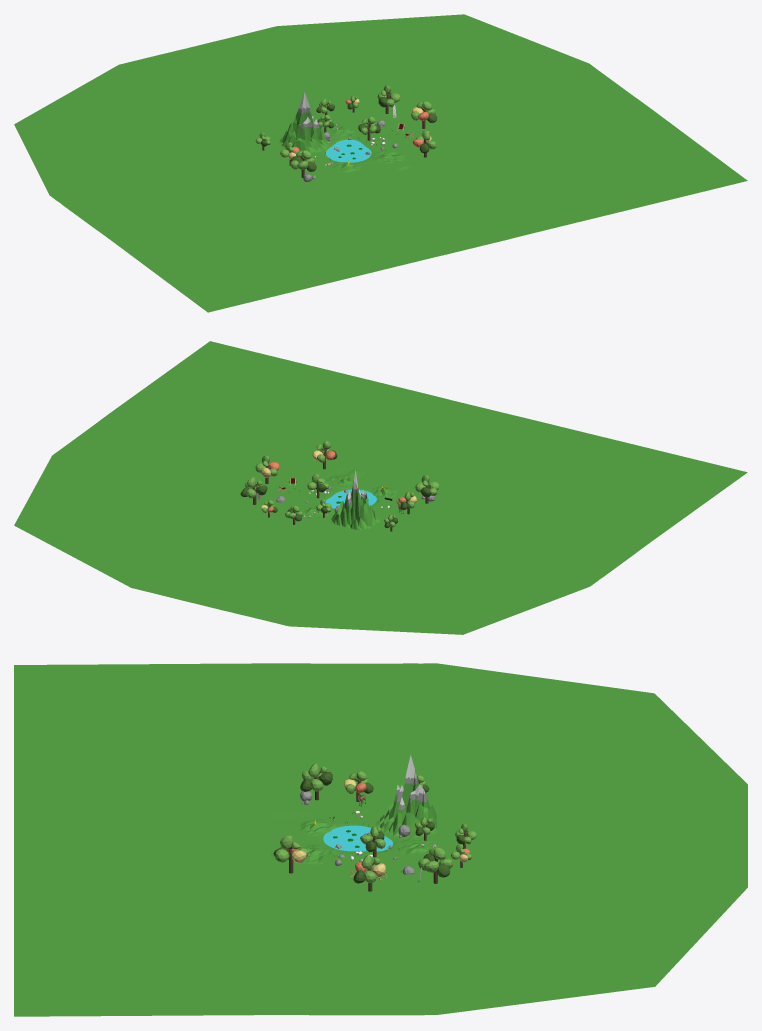
Rendered from nature-scene.glb.
3 renders of one model, top to bottom at view 1: azimuth 30°, elevation 25°; view 2: azimuth 150°, elevation 25°; view 3: azimuth 270°, elevation 25°, orthographic. The views are drawn at different scales.
Visible parts, largest first — view 1: Ground, Lac; view 2: Ground; view 3: Ground, Tree.003 (×2), Tree.006 (×2), Lac.
Boxes of the visible parts, x1,y1,x2,y2 form: Ground: (14, 14, 747, 312); Lac: (326, 139, 371, 162); Ground: (14, 341, 747, 634); Ground: (14, 663, 747, 1016); Tree.003 (×2): (300, 763, 452, 883); Tree.006 (×2): (273, 835, 385, 891); Lac: (323, 825, 392, 851).
Size of the model in its own units: 347 by 33.86 by 306.
